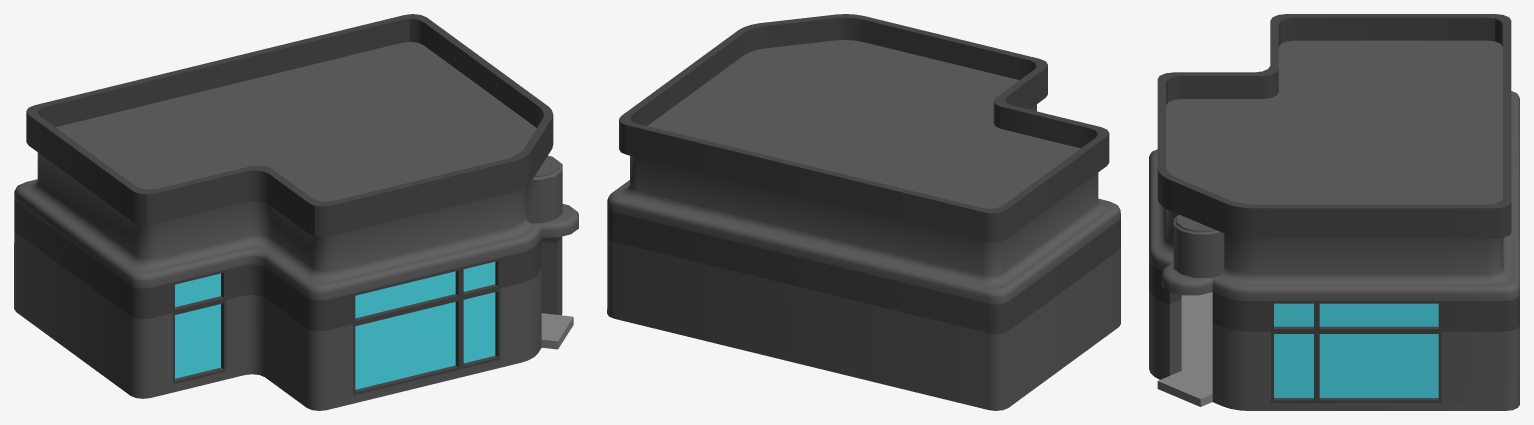
Rendered from SM_Buildings_Commercial_10.fbx.
3 views of the same model, side by side, from view 1: azimuth 30°, elevation 25°; view 2: azimuth 150°, elevation 25°; view 3: azimuth 270°, elevation 25° (orthographic). The views are drawn at different scales.
Visible parts, largest first — view 1: SM_Buildings_Commercial_10; view 2: SM_Buildings_Commercial_10; view 3: SM_Buildings_Commercial_10.
Boxes of the visible parts, x1,y1,x2,y2 form: SM_Buildings_Commercial_10: (14,14,578,410); SM_Buildings_Commercial_10: (607,14,1120,410); SM_Buildings_Commercial_10: (1149,14,1519,410).
Size of the model in its own units: 8.45 by 3.89 by 6.57.
